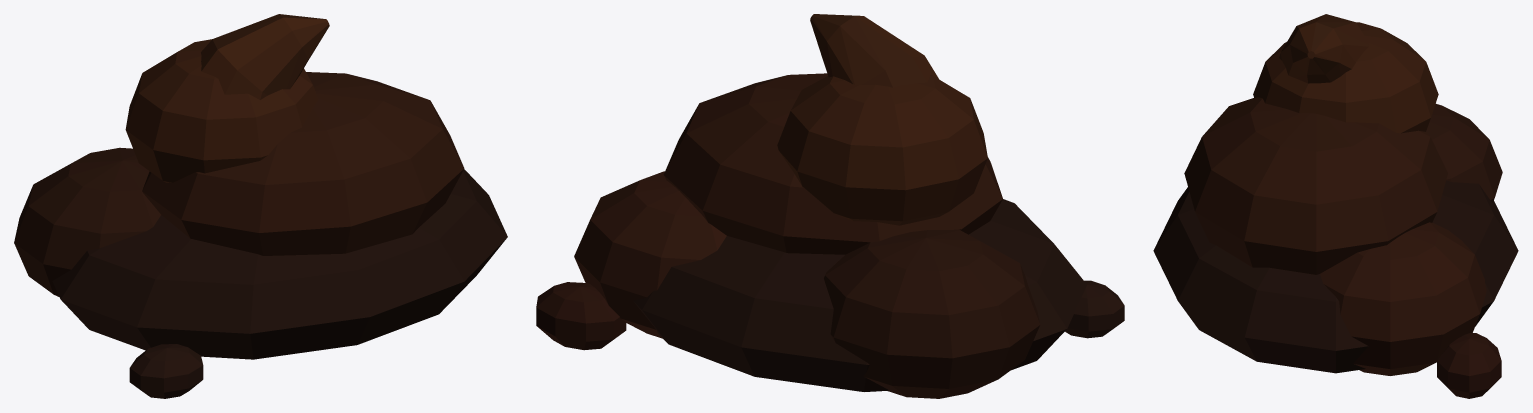
File: SM_DungPile.fbx
3 renders of one model, left to right at view 1: azimuth 30°, elevation 25°; view 2: azimuth 150°, elevation 25°; view 3: azimuth 270°, elevation 25°, orthographic. The views are drawn at different scales.
Parts seen in each view (by area): view 1: SM_DungPile • FBX; view 2: SM_DungPile • FBX; view 3: SM_DungPile • FBX.
Boxes of the visible parts, x1,y1,x2,y2 form: SM_DungPile • FBX: [14, 14, 507, 398]; SM_DungPile • FBX: [536, 14, 1124, 398]; SM_DungPile • FBX: [1153, 14, 1518, 398].
Bounding box in the file's own units: 970 × 740 × 669.
